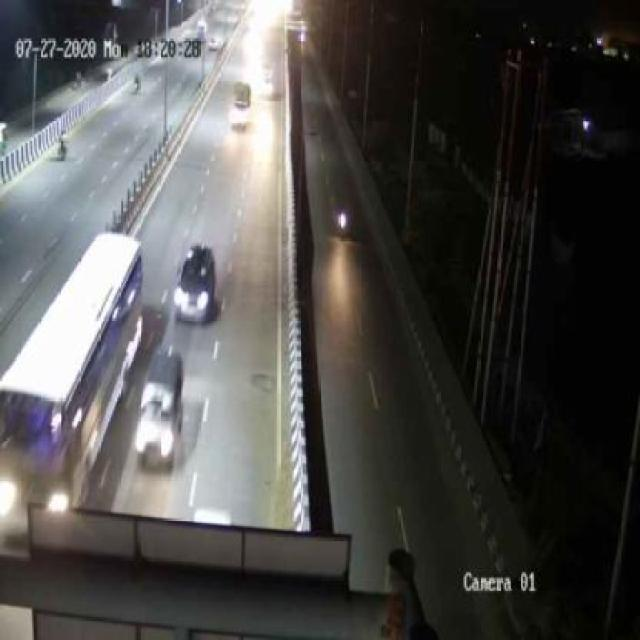car: (134, 351, 183, 463), (175, 240, 220, 315)
